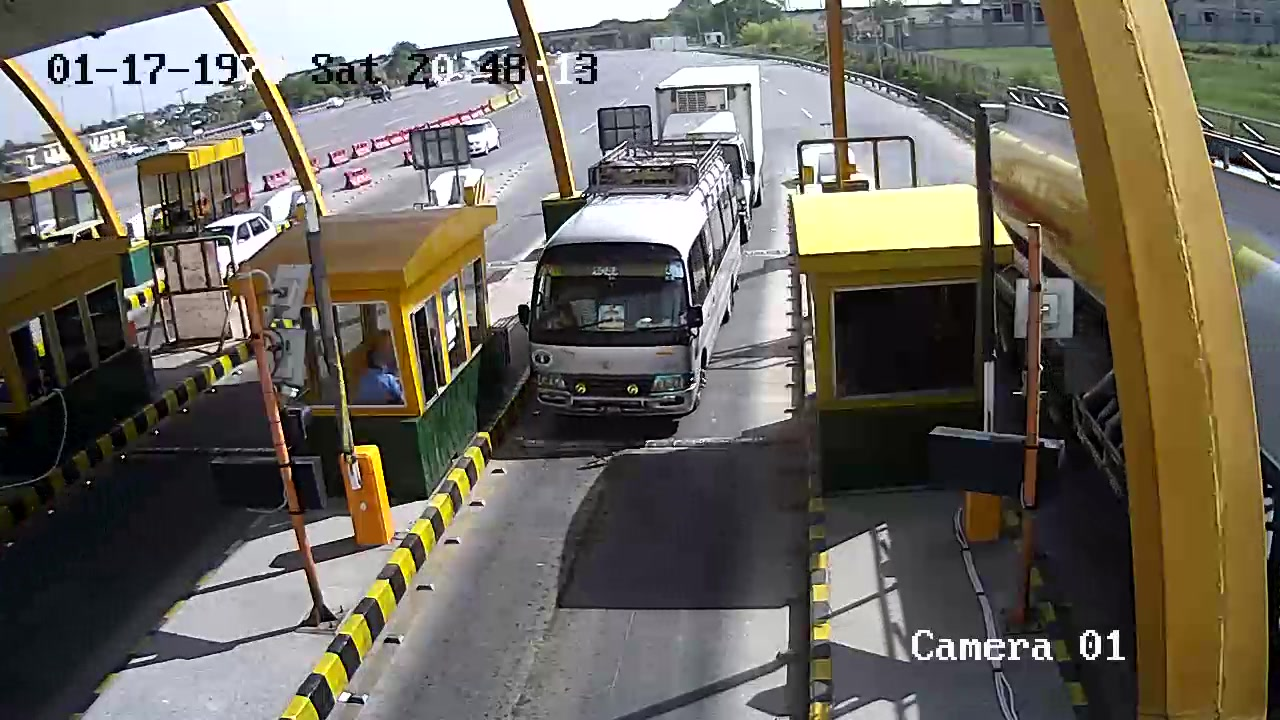F3: (519, 133, 750, 424)
